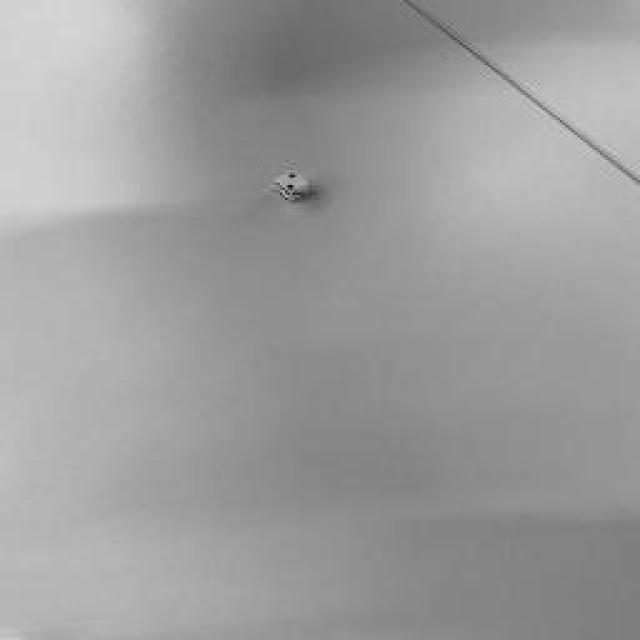dice_2: (278, 172, 308, 192)
